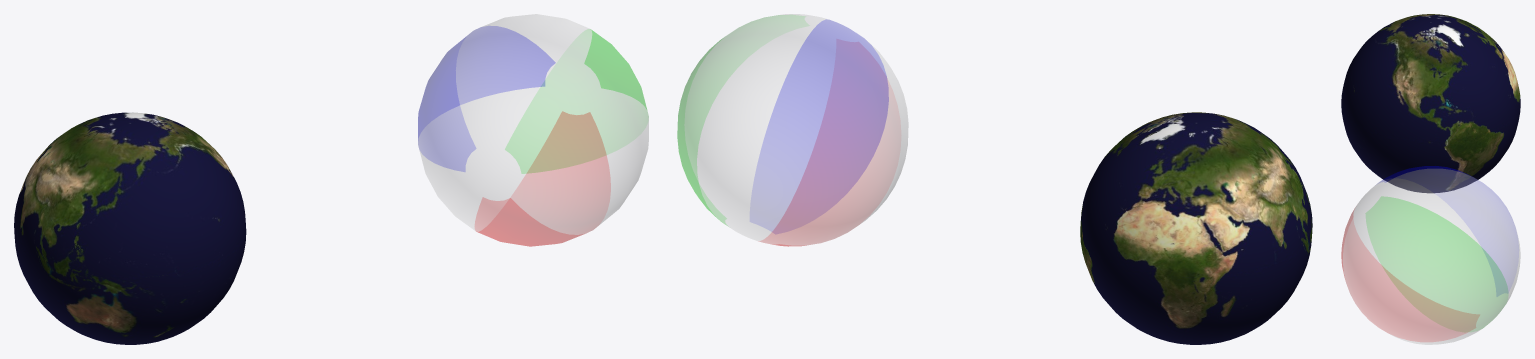
The model's file is Balls.dae.
The picture shows the model from 3 angles, left to right: view 1: azimuth 30°, elevation 25°; view 2: azimuth 150°, elevation 25°; view 3: azimuth 270°, elevation 25°; orthographic projection. The views are drawn at different scales.
Parts seen in each view (by area): view 1: Globe, BeachBall; view 2: Globe, BeachBall; view 3: Globe, BeachBall.
Boxes of the visible parts, x1=… form: Globe: x1=14, y1=112, x2=246, y2=344; BeachBall: x1=418, y1=14, x2=648, y2=246; Globe: x1=1080, y1=112, x2=1312, y2=344; BeachBall: x1=677, y1=14, x2=908, y2=246; Globe: x1=1341, y1=14, x2=1520, y2=193; BeachBall: x1=1341, y1=166, x2=1520, y2=344.
Size of the model in its own units: 6 by 2 by 2.
